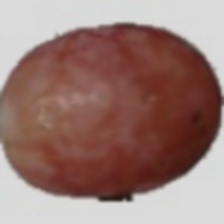grapes: (39, 39, 186, 192)
